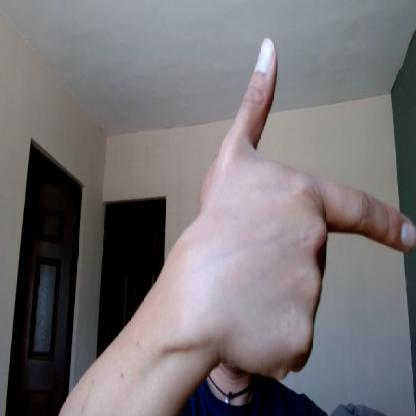G: (210, 35, 415, 380)
